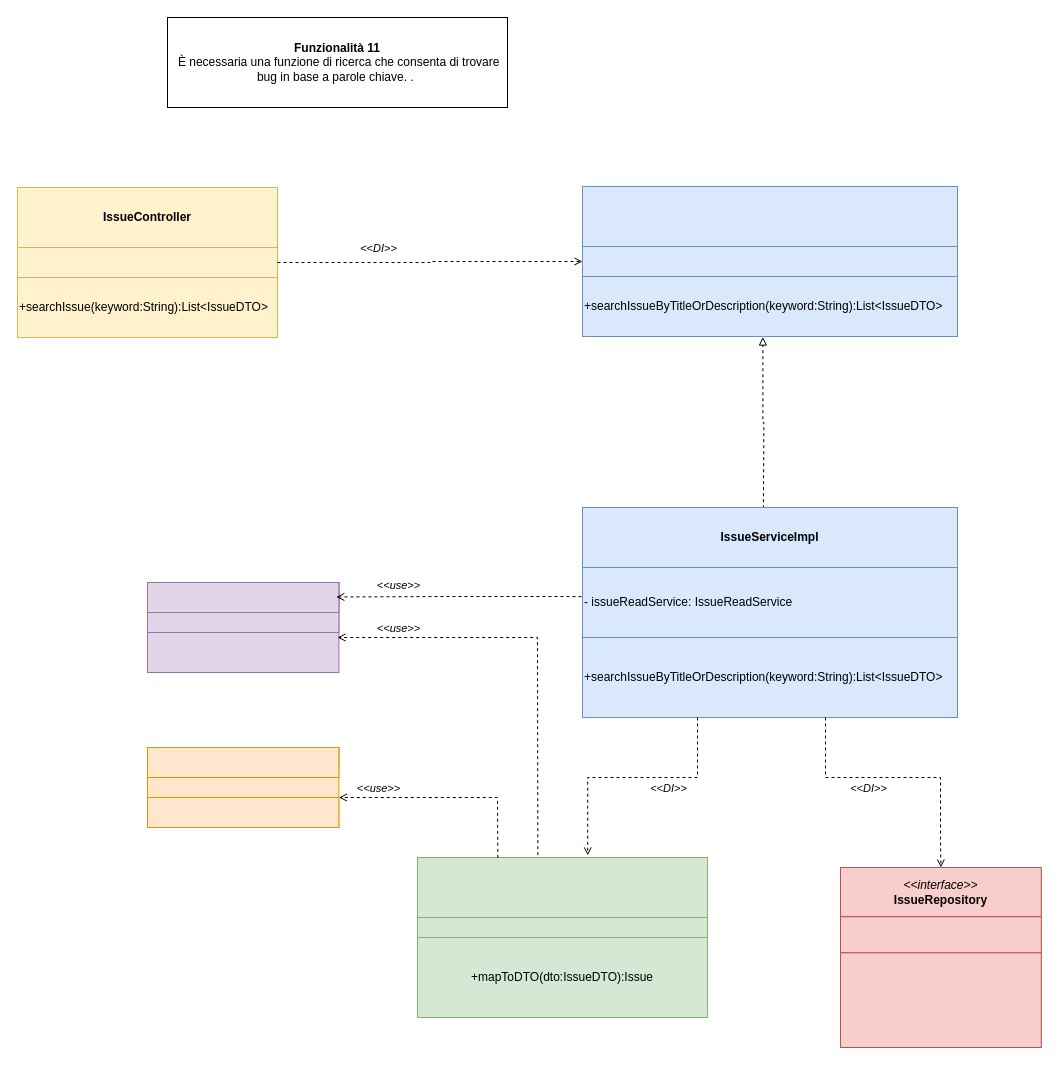
Some shapes in this 1059 by 1065 pixel diagram are drawn without their labels. The shapes that lost their labels are listed below. From the top down, each one's box as (x1, y1, x2, y2) in pixels, then its label:
(582, 186, 958, 246): <<interface>> IssueService
(16, 246, 278, 278): -issueService:IssueService
(146, 582, 339, 612): Issue
(146, 746, 339, 778): << record>> IssueDTO
(416, 856, 708, 918): IssueMapper
